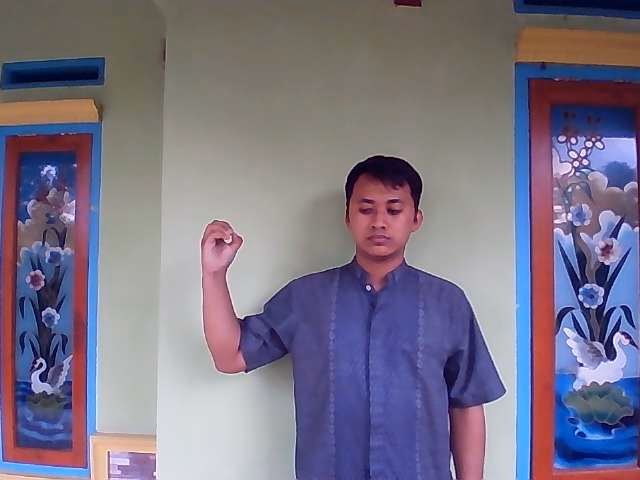O: (198, 216, 246, 277)
